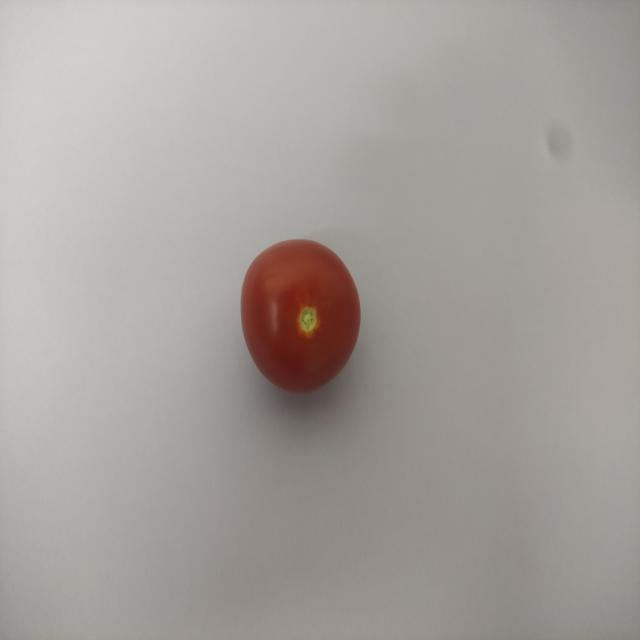kirmizi: (230, 229, 380, 398)
